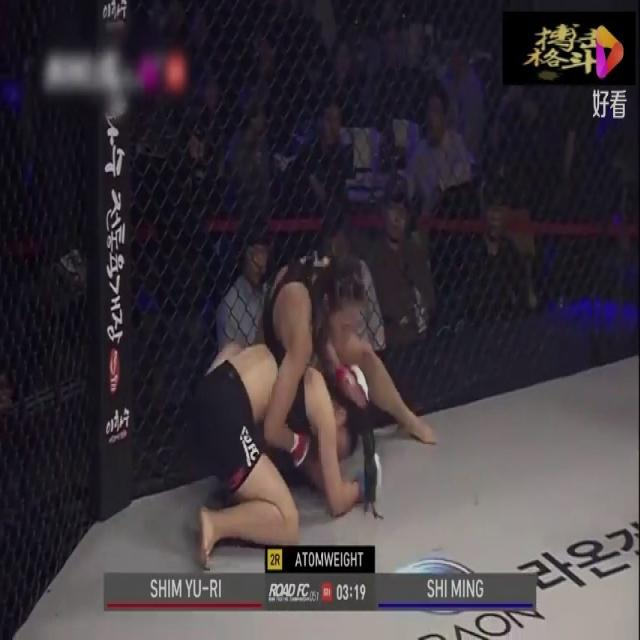fight: (187, 230, 437, 570)
